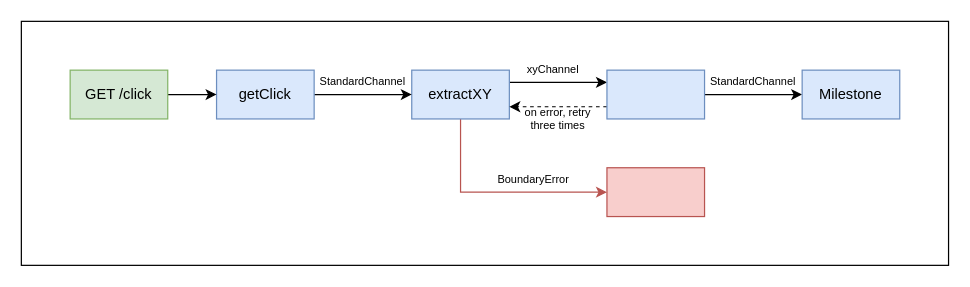
The diagram is 970 pixels wide and 287 high, and some of its shapes have lost their labels. The shapes that lost their labels are listed below. From the top down, each one's centre as x and y in pixels, then its label:
the point at 655,94: movePlayer
the point at 655,192: displaySyntaxError
